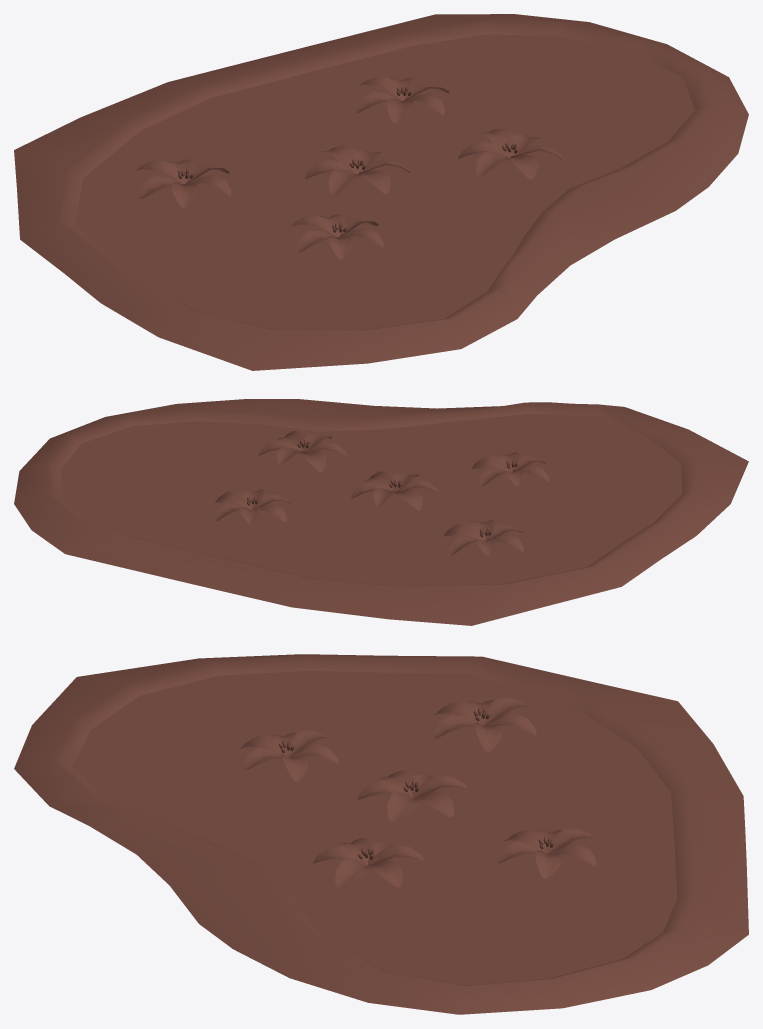
The model's file is SM_Pond.fbx.
The picture shows the model from 3 angles, top to bottom: view 1: azimuth 30°, elevation 25°; view 2: azimuth 150°, elevation 25°; view 3: azimuth 270°, elevation 25°; orthographic projection. The views are drawn at different scales.
Parts seen in each view (by area): view 1: pCone8; view 2: pCone8; view 3: pCone8.
Part boxes in pixels (x1,y1,x2,y2): pCone8: (14, 14, 748, 370); pCone8: (14, 399, 748, 625); pCone8: (14, 654, 748, 1014).
Size of the model in its own units: 134 by 5.34 by 116.
